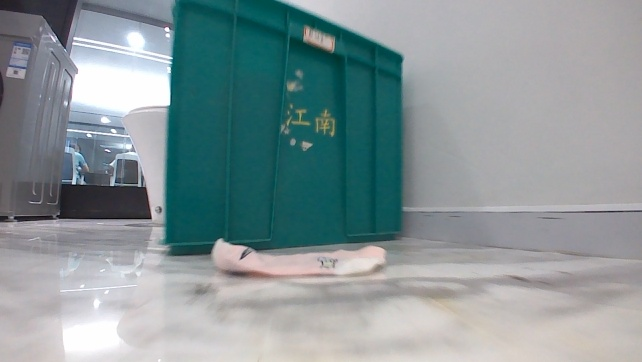socks: (206, 238, 390, 280)
toilet: (118, 105, 170, 223)
washing_machine1: (0, 7, 81, 224)
